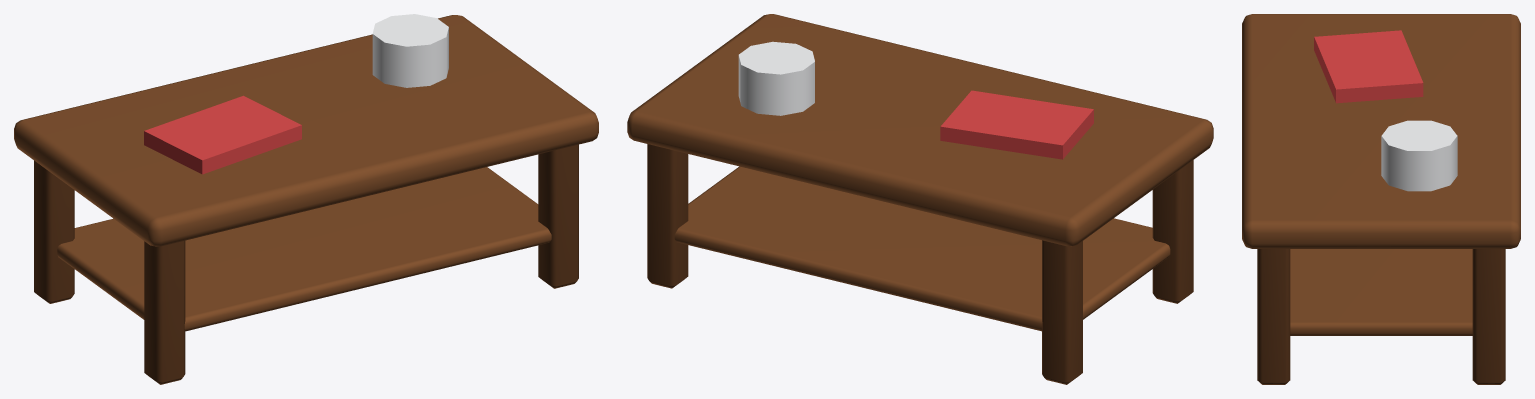
The model's file is CoffeeTable.fbx.
3 views of the same model, side by side, from view 1: azimuth 30°, elevation 25°; view 2: azimuth 150°, elevation 25°; view 3: azimuth 270°, elevation 25° (orthographic). The views are drawn at different scales.
Visible parts, largest first — view 1: CoffeeTable; view 2: CoffeeTable; view 3: CoffeeTable.
Part boxes in pixels (box(x1,y1,x2,y2)): CoffeeTable: box(14, 14, 598, 384); CoffeeTable: box(627, 14, 1213, 384); CoffeeTable: box(1242, 14, 1520, 384).
Size of the model in its own units: 4 by 1.82 by 2.2.
Materials: 1 (1 with a texture image).
